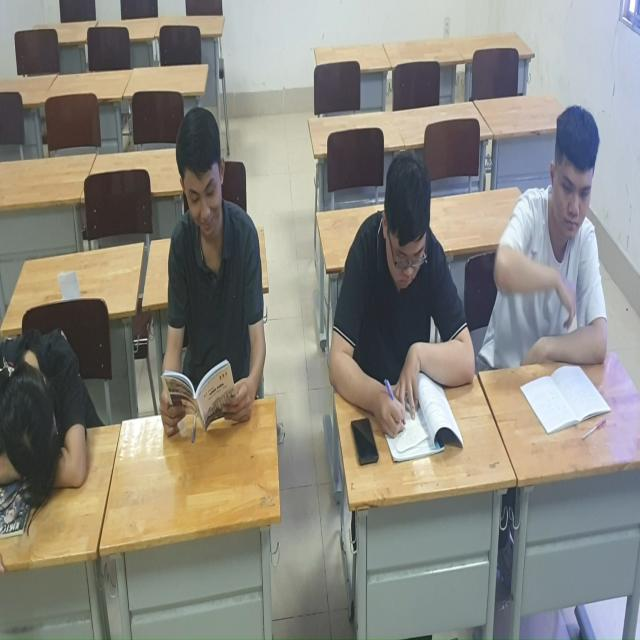raise_hand: (496, 94, 617, 428)
read: (331, 139, 491, 457), (155, 86, 283, 470)
sleep: (1, 315, 86, 524)
